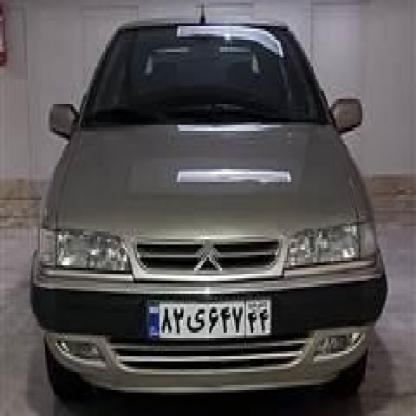Car: (31, 5, 383, 406)
